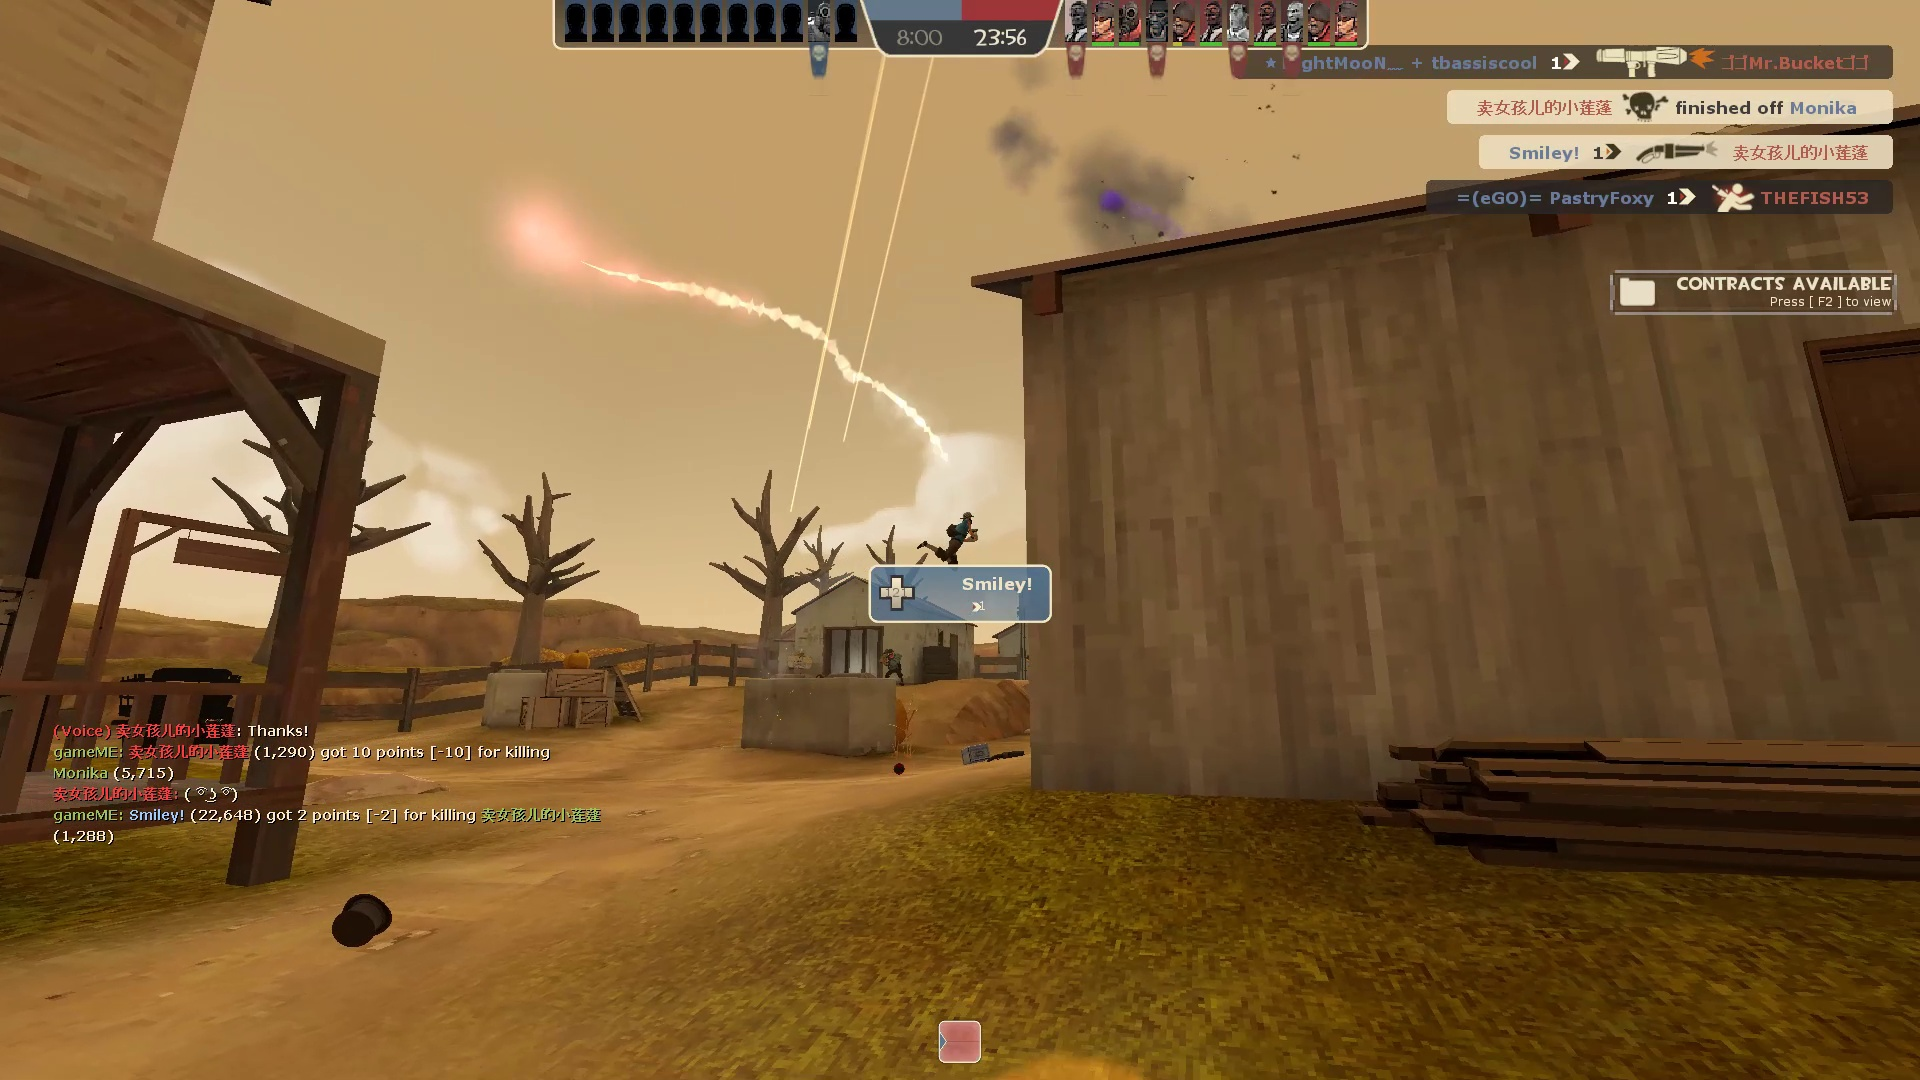blu_scout: (914, 513, 982, 584)
blu_soldier: (878, 645, 906, 686)
